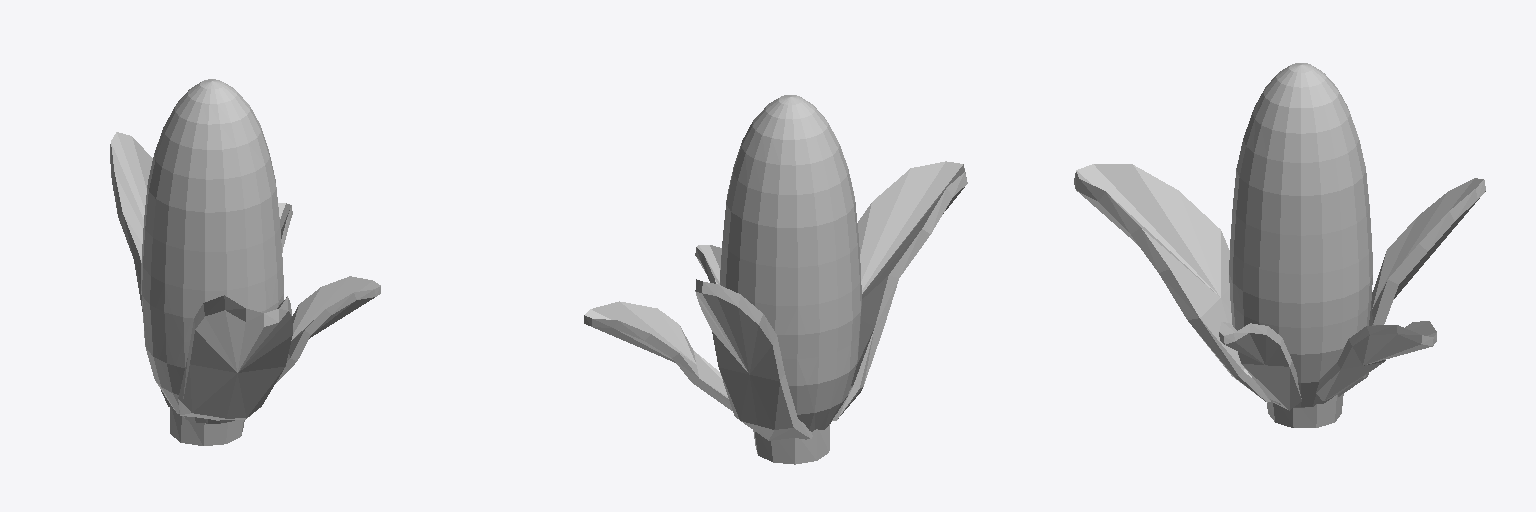
File: Corn_pickup.obj
3 renders of one model, left to right at view 1: azimuth 30°, elevation 25°; view 2: azimuth 150°, elevation 25°; view 3: azimuth 270°, elevation 25°, orthographic.
Parts seen in each view (by area): view 1: polySurface2; view 2: polySurface2; view 3: polySurface2.
Boxes of the visible parts, <box> form: polySurface2: <box>110,79,380,445</box>; polySurface2: <box>584,95,967,464</box>; polySurface2: <box>1074,63,1485,427</box>.
Size of the model in its own units: 1.09 by 1.7 by 1.81.